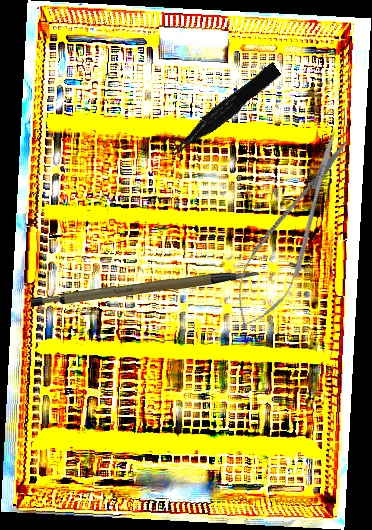Micro Scissor: (218, 122, 366, 341)
Scalpel Handle: (30, 266, 260, 315)
Tissue Forceps: (164, 62, 285, 158)
